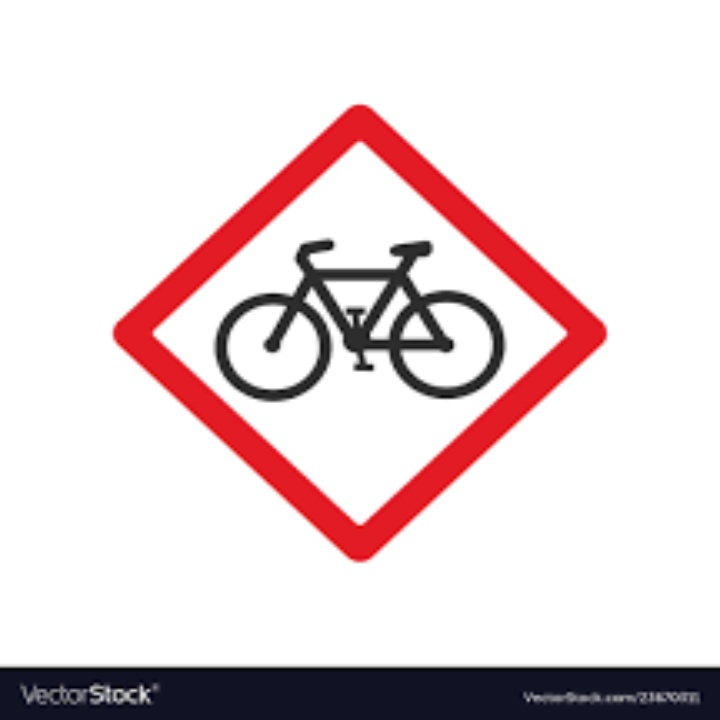bicycle: (205, 167, 513, 475)
